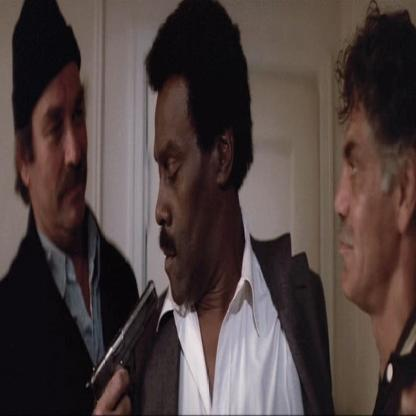gun: (73, 271, 163, 416)
